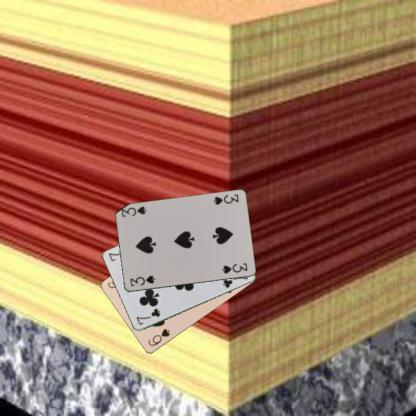3s: (127, 272, 156, 288), (210, 192, 240, 206)
6s: (146, 326, 171, 348)
7c: (133, 306, 162, 326)
